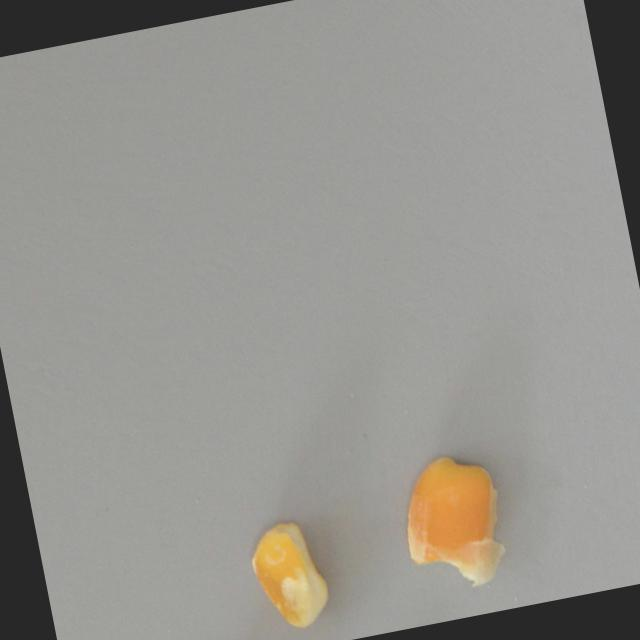pelicula: (388, 442, 520, 600), (243, 515, 337, 636)
